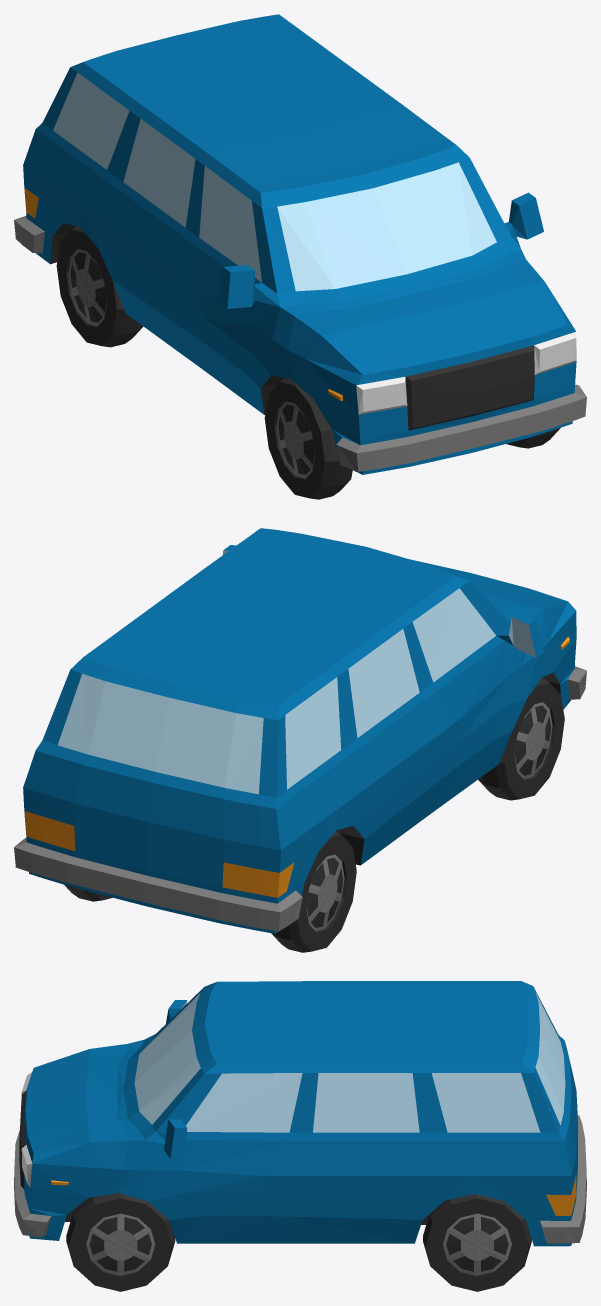
Rendered from van.glb.
3 views of the same model, one above another, from view 1: azimuth 30°, elevation 25°; view 2: azimuth 150°, elevation 25°; view 3: azimuth 270°, elevation 25° (orthographic). The views are drawn at different scales.
Visible parts, largest first — view 1: Van; view 2: Van; view 3: Van.
Boxes of the visible parts, left/top/right/bottom form: Van: left=14, top=14, right=586, bottom=499; Van: left=14, top=528, right=586, bottom=952; Van: left=14, top=981, right=586, bottom=1291.
Bounding box in the file's own units: 43.89 × 34.33 × 80.23.
Materials: 1 (1 with a texture image).
